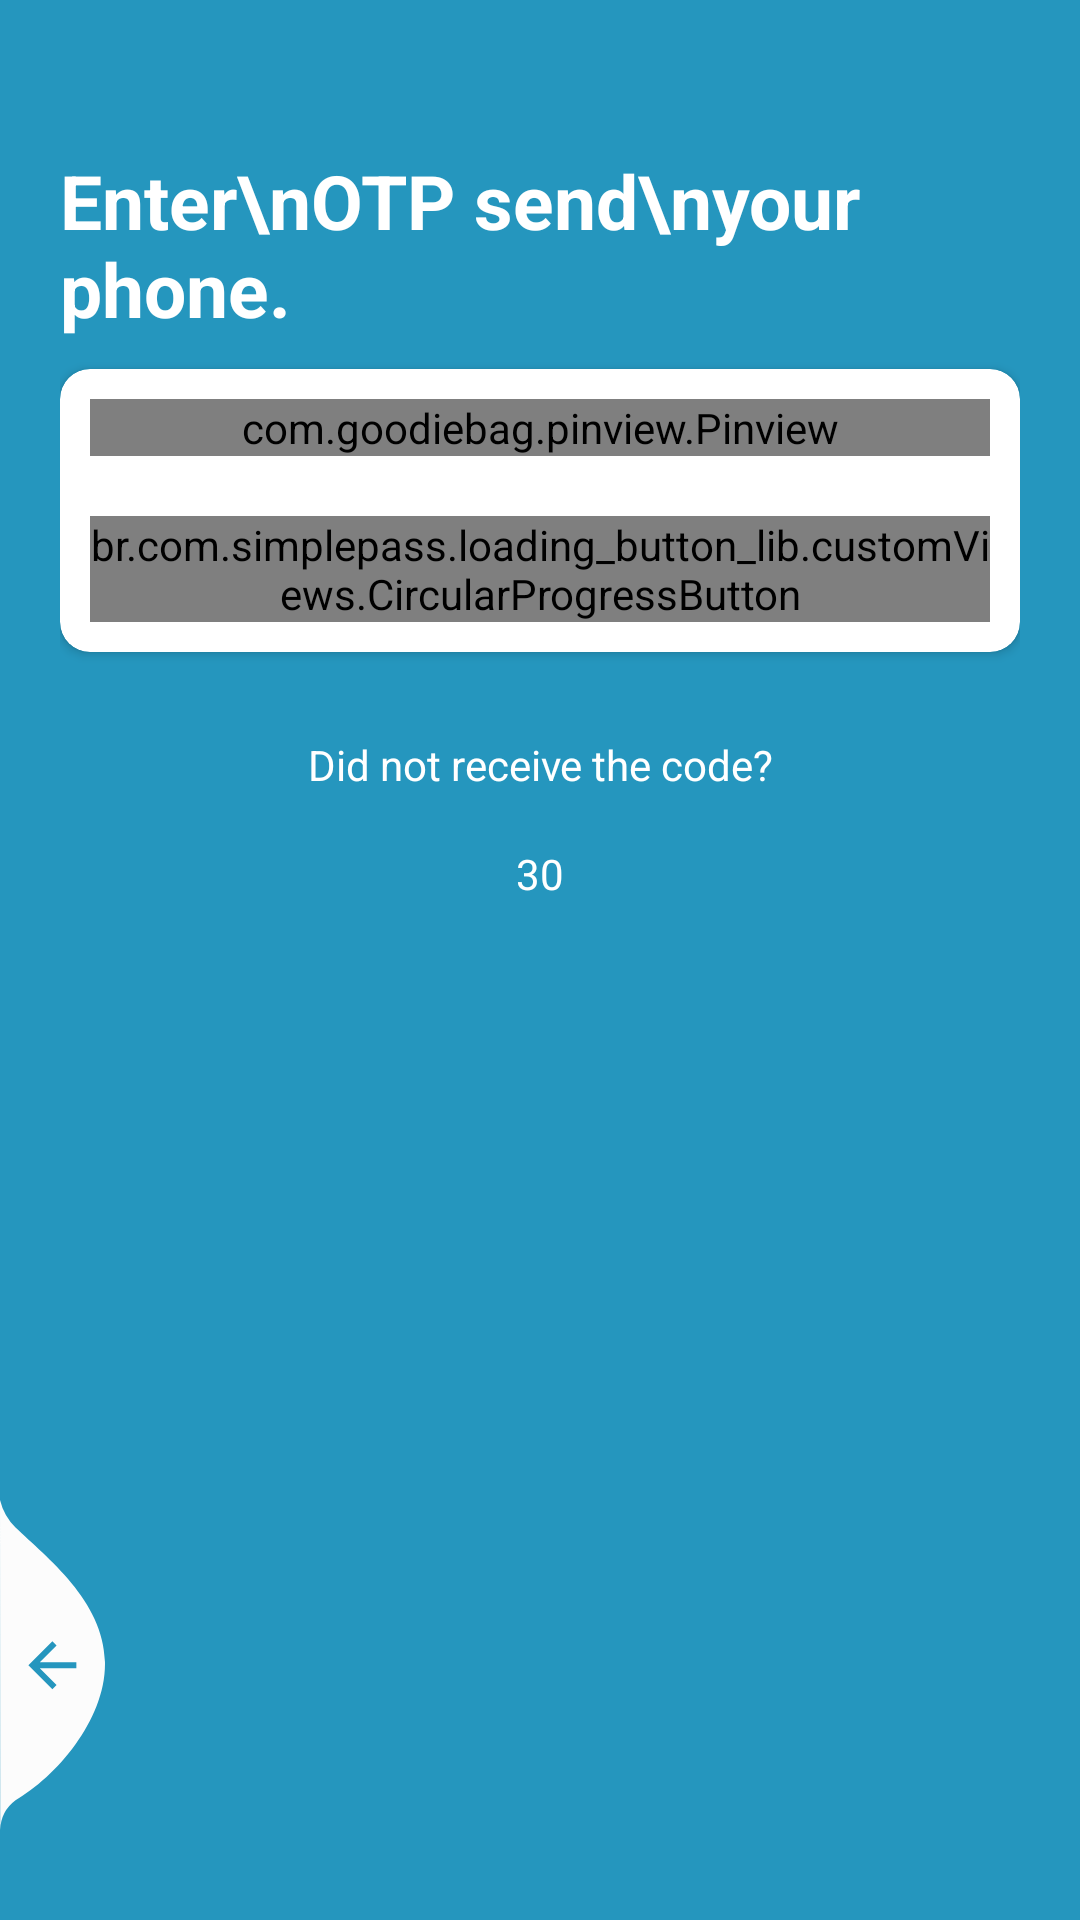

Where to tap for icons on this 1080x1920 app screen, as (x=x, y=y):
back: (x=52, y=1664)
